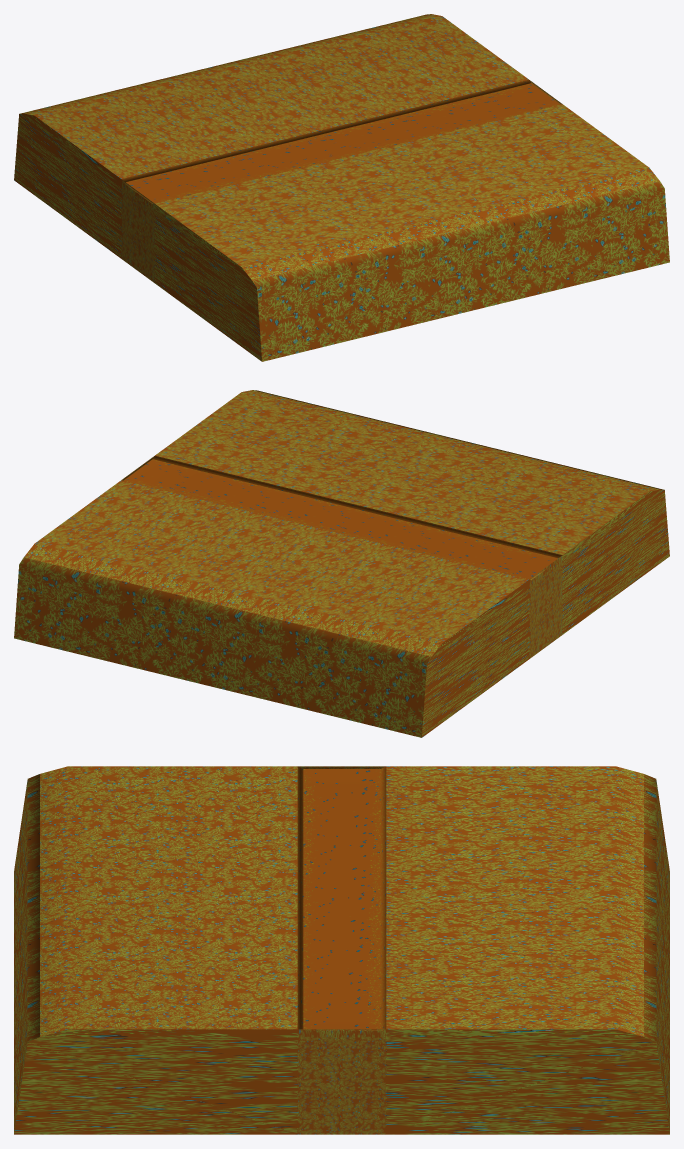
File: wide t3st boi2 .fbx
3 renders of one model, top to bottom at view 1: azimuth 30°, elevation 25°; view 2: azimuth 150°, elevation 25°; view 3: azimuth 270°, elevation 25°, orthographic. The views are drawn at different scales.
Parts seen in each view (by area): view 1: Mesh_Path_Straight2; view 2: Mesh_Path_Straight2; view 3: Mesh_Path_Straight2.
Part boxes in pixels (x1,y1,x2,y2): Mesh_Path_Straight2: (14,14,669,361); Mesh_Path_Straight2: (14,390,669,737); Mesh_Path_Straight2: (14,766,669,1134).
Size of the model in its own units: 5623 by 1051 by 5926.
